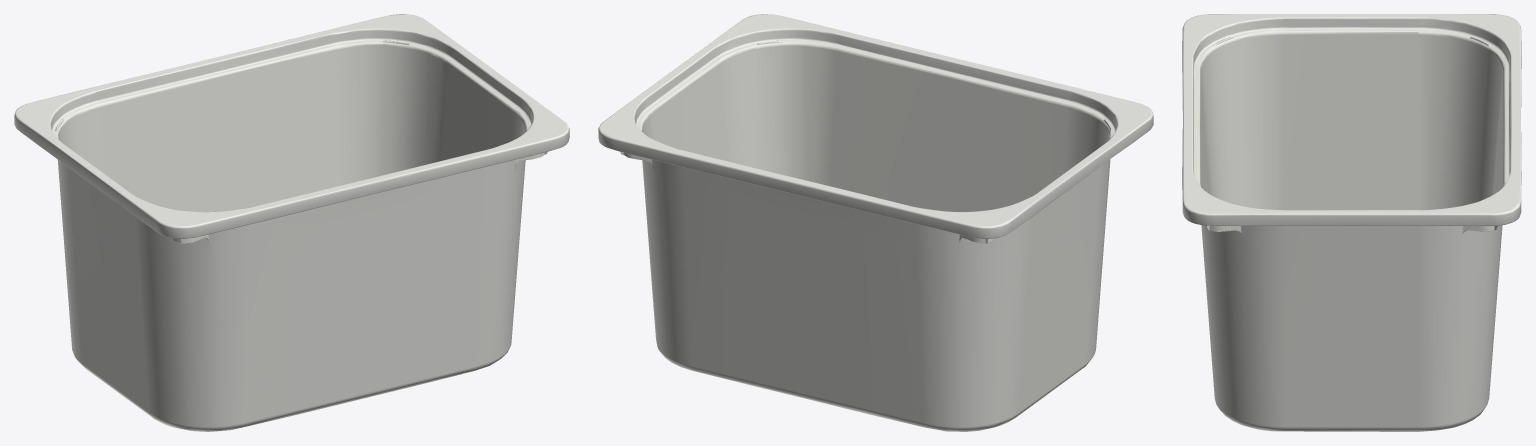
The model's file is trofast_pojemnik_40582100.glb.
3 renders of one model, left to right at view 1: azimuth 30°, elevation 25°; view 2: azimuth 150°, elevation 25°; view 3: azimuth 270°, elevation 25°, orthographic.
Visible parts, largest first — view 1: trofast_pojemnik_40582100; view 2: trofast_pojemnik_40582100; view 3: trofast_pojemnik_40582100.
Part boxes in pixels (<box>): trofast_pojemnik_40582100: <box>14,14,569,431</box>; trofast_pojemnik_40582100: <box>598,14,1153,431</box>; trofast_pojemnik_40582100: <box>1182,14,1521,431</box>.
Bounding box in the file's own units: 0.4186 × 0.2278 × 0.2991.
Materials: 1 (1 with a texture image).
